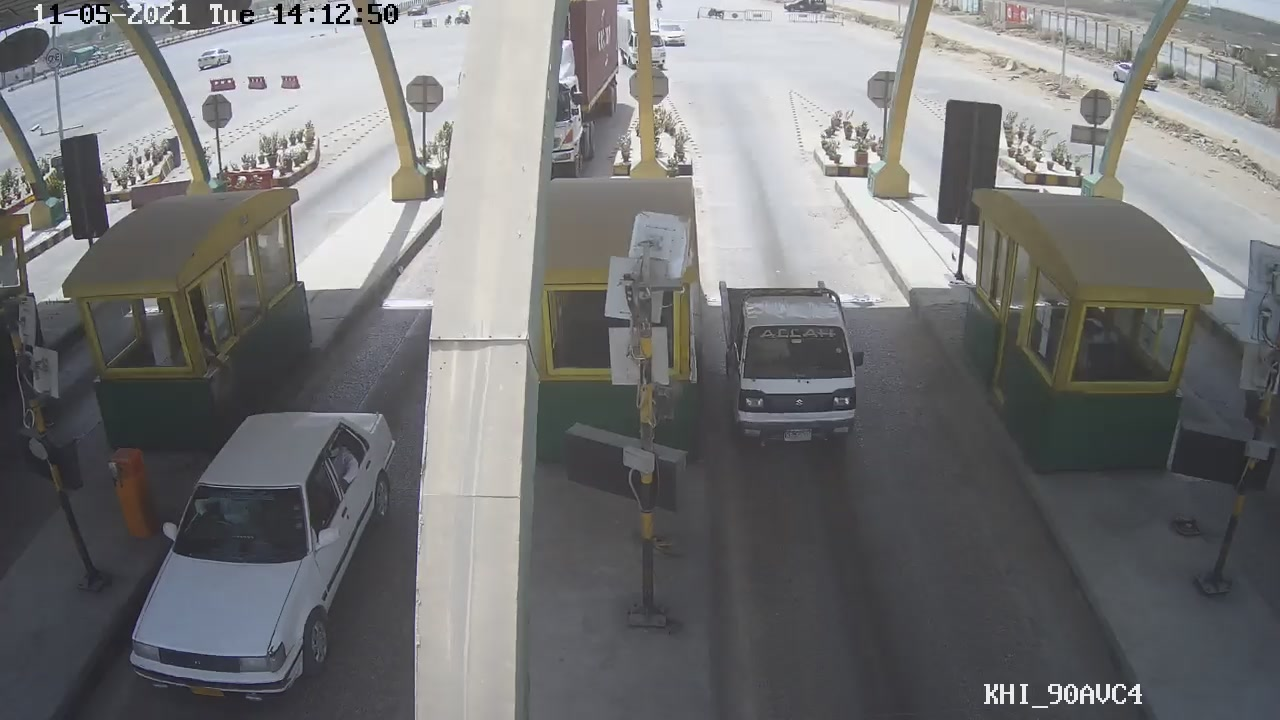F1: (721, 273, 866, 462)
